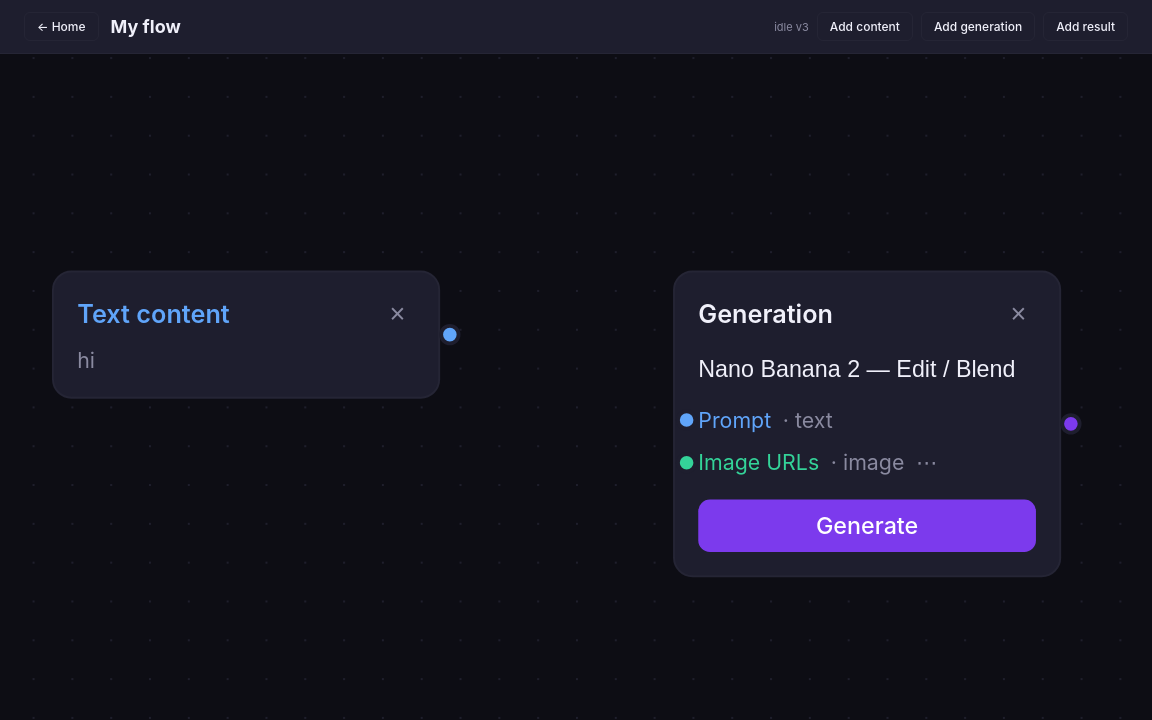
Test: FlowEditorPage › adds a text content block via the toolbar menu
The width and height of the screenshot is (1152, 720).
Click the button "Add content".
click(865, 26)  # box [817,12,913,41]
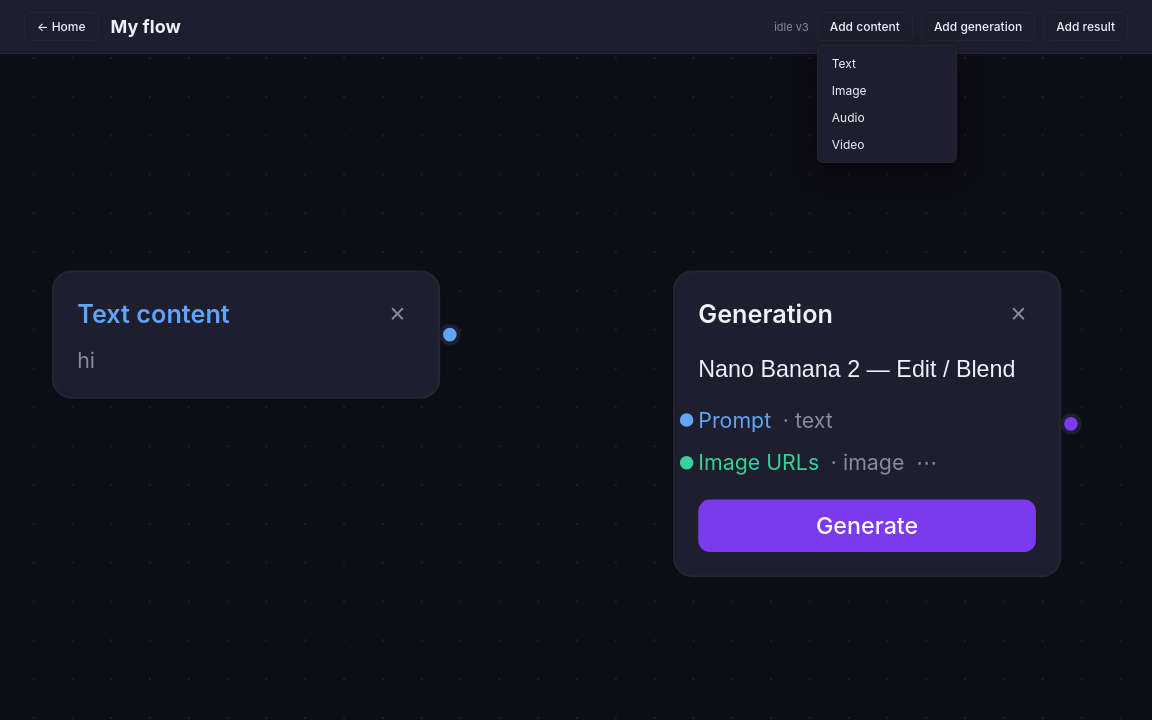
Click the menu item with aria-label "add text content".
click(887, 64)  # box [822,50,952,77]
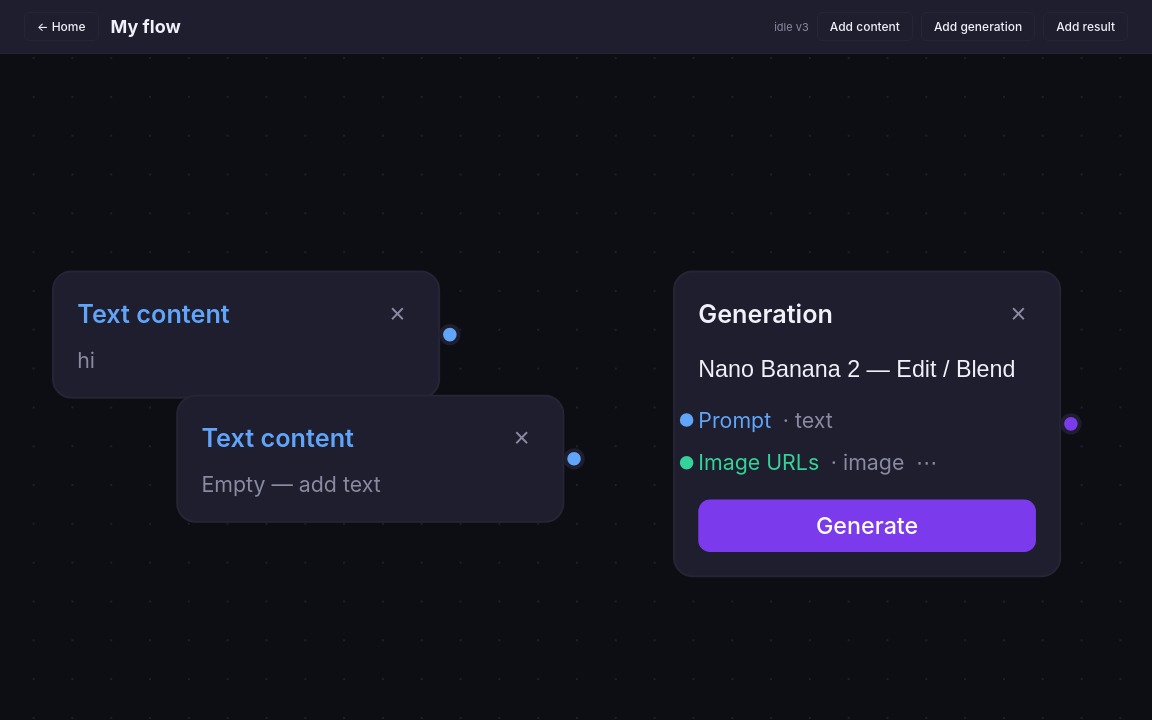
Check: the number of elements with test id "content-node" is 2, box [52,271,440,399]; [176,395,564,523]
